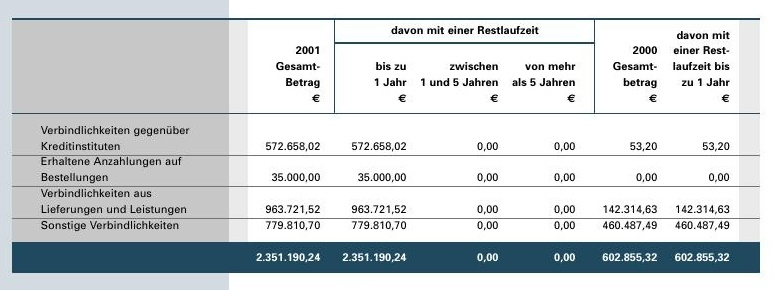table: (0, 0, 774, 290)
